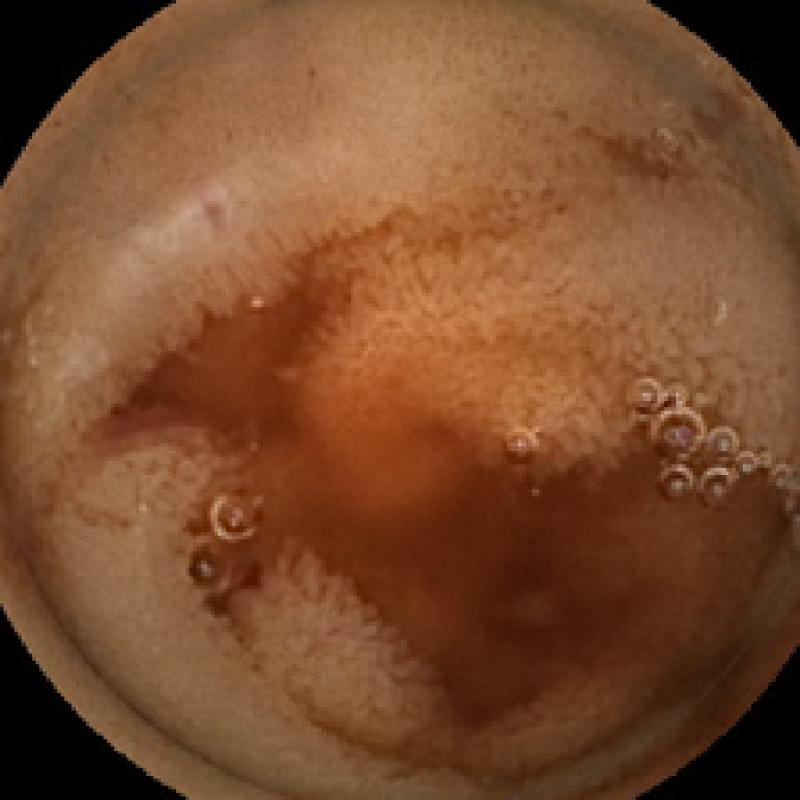bleeding: (193, 468, 696, 668)
